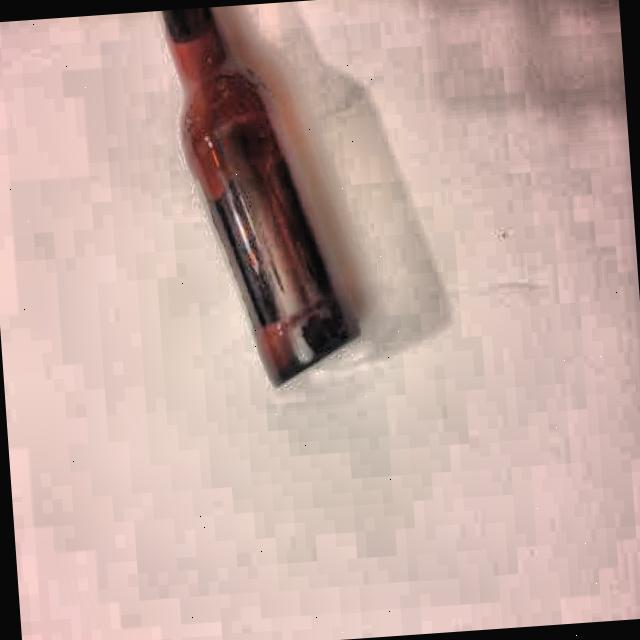glass: (160, 0, 364, 401)
